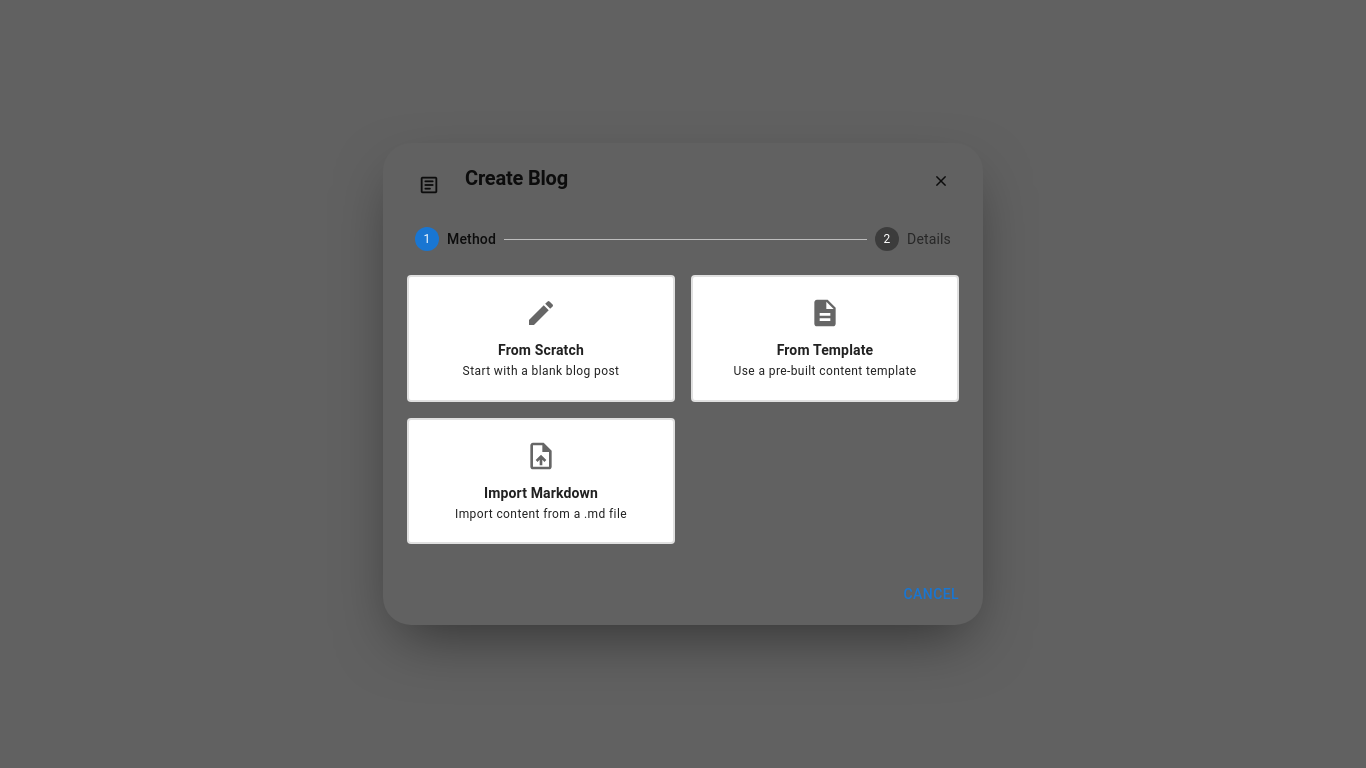
Test: CreateBlogWizard › goes back to the method step from the details step
The image size is (1366, 768).
Click the text "From Scratch" at (541, 350), box [498,340,584,360]
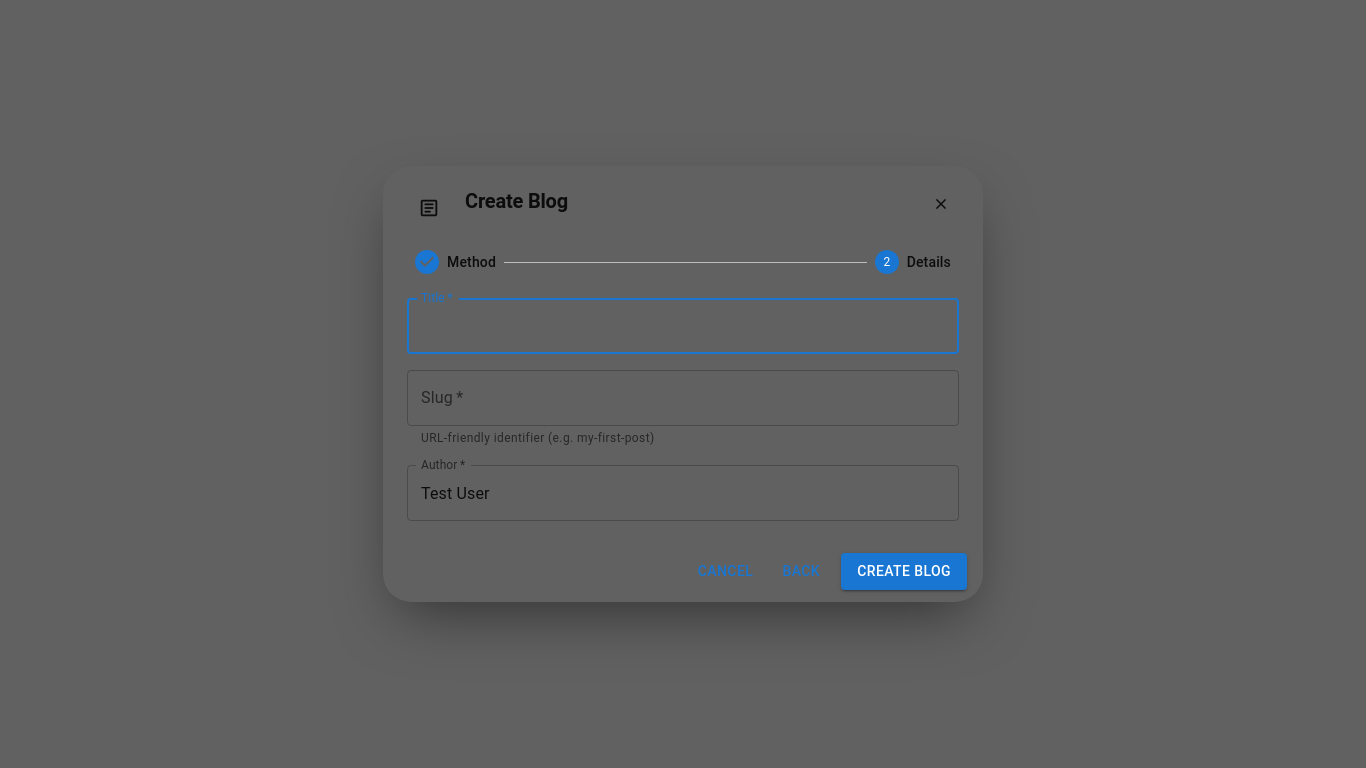
Expected: the element with test id "create-blog-wizard.input.title" is shown, [407,298,959,354]
Click the button with test id "create-blog-wizard.btn.back" at (801, 571), box [769,553,833,590]
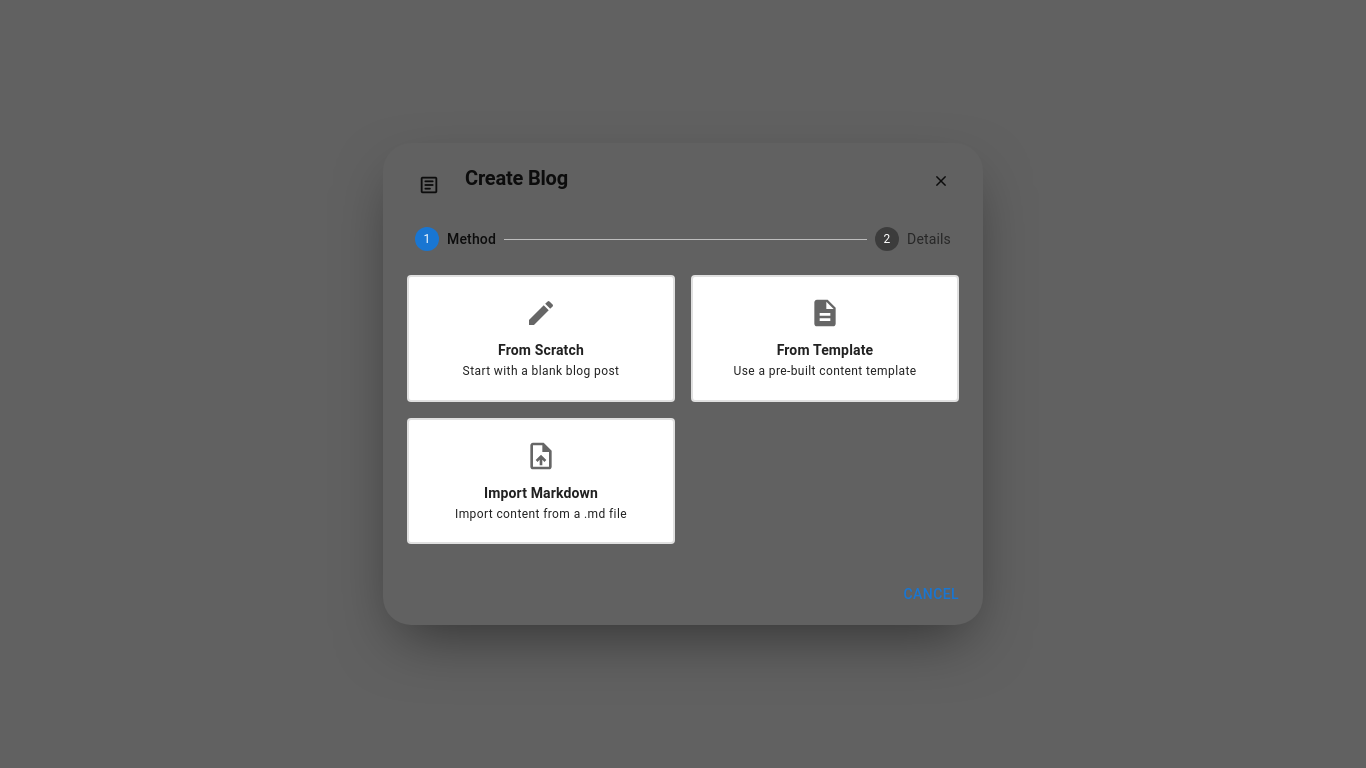
Expected: the field with test id "create-blog-wizard.input.title" is gone
Expected: the text "From Template" is shown, [777,340,873,360]
